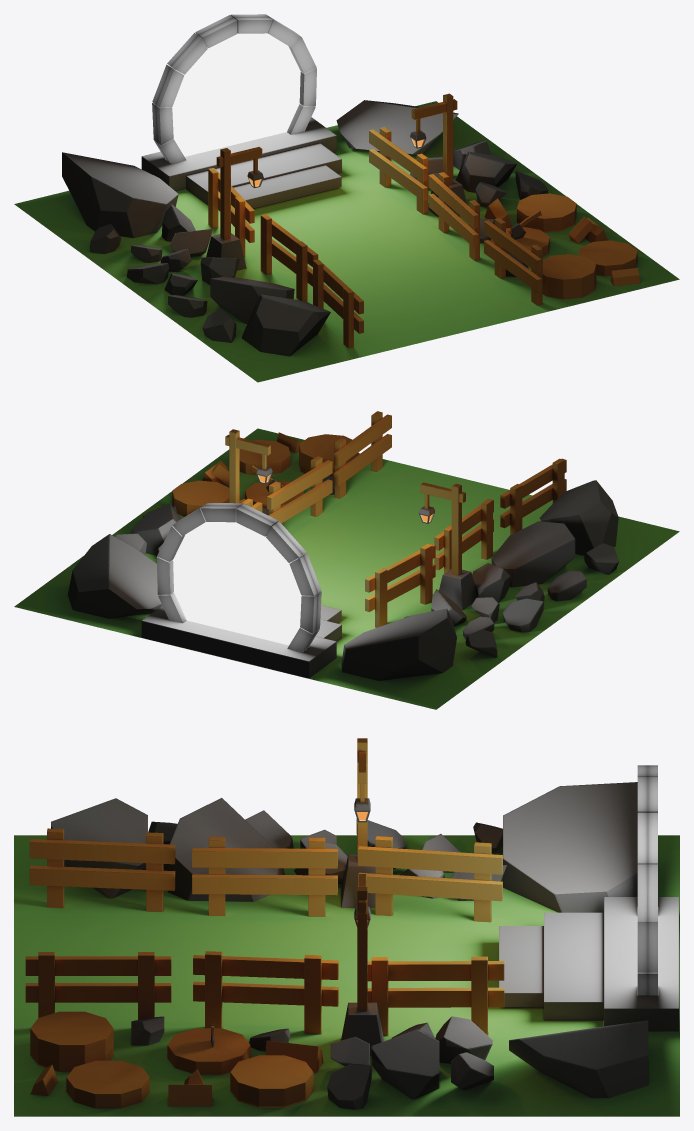
Rendered from original.glb.
3 renders of one model, top to bottom at view 1: azimuth 30°, elevation 25°; view 2: azimuth 150°, elevation 25°; view 3: azimuth 270°, elevation 25°, orthographic. The views are drawn at different scales.
Visible parts, largest first — view 1: floor, portal.001, rock, portal, rock.003, rock.011, stairs.002, stairs.001, fence.003, fence.001, stairs, fence.005 (+20 smaller); view 2: floor, portal.001, portal, rock, rock.011, stairs.002, rock.002, rock.003, fence.006, fence.001, fence.002, fence.004 (+16 smaller); view 3: floor, rock, stairs.002, rock.011, fence.004, fence.005, fence.002, fence.006, fence.001, stairs.001, fence.003, rock.002 (+22 smaller).
Part boxes in pixels (x1=…): floor: x1=14, y1=101, x2=679, y2=382; portal.001: x1=172, y1=33, x2=300, y2=156; rock: x1=62, y1=152, x2=178, y2=237; portal: x1=152, y1=14, x2=316, y2=163; rock.003: x1=242, y1=294, x2=330, y2=356; rock.011: x1=336, y1=100, x2=458, y2=154; stairs.002: x1=141, y1=117, x2=336, y2=191; stairs.001: x1=186, y1=143, x2=341, y2=204; fence.003: x1=369, y1=127, x2=428, y2=214; fence.001: x1=484, y1=218, x2=542, y2=305; stairs: x1=233, y1=165, x2=341, y2=208; fence.005: x1=260, y1=214, x2=318, y2=301; floor: x1=14, y1=428, x2=679, y2=709; portal.001: x1=173, y1=522, x2=301, y2=645; portal: x1=156, y1=503, x2=321, y2=651; rock: x1=341, y1=608, x2=456, y2=680; rock.011: x1=68, y1=534, x2=162, y2=618; stairs.002: x1=141, y1=605, x2=336, y2=678; rock.002: x1=491, y1=521, x2=575, y2=587; rock.003: x1=540, y1=480, x2=618, y2=555; fence.006: x1=365, y1=544, x2=435, y2=627; fence.001: x1=334, y1=411, x2=391, y2=498; fence.002: x1=267, y1=456, x2=332, y2=523; fence.004: x1=500, y1=458, x2=566, y2=534; floor: x1=14, y1=835, x2=679, y2=1116; rock: x1=503, y1=782, x2=637, y2=912; stairs.002: x1=604, y1=897, x2=678, y2=1031; rock.011: x1=509, y1=1020, x2=648, y2=1097; fence.004: x1=29, y1=828, x2=175, y2=911; fence.005: x1=192, y1=837, x2=337, y2=916; fence.002: x1=193, y1=951, x2=338, y2=1034; fence.006: x1=358, y1=836, x2=502, y2=921; fence.001: x1=25, y1=952, x2=171, y2=1019; stairs.001: x1=544, y1=912, x2=603, y2=1020; fence.003: x1=367, y1=956, x2=504, y2=1035; rock.002: x1=163, y1=798, x2=284, y2=901.
Size of the model in its own units: 4 by 1.31 by 4.
Materials: 6 (4 with a texture image).
